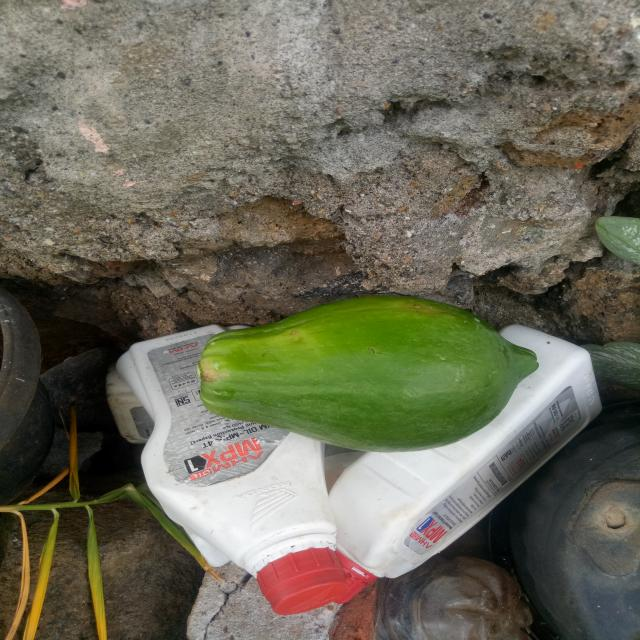Pepaya unrippen: (187, 286, 553, 457)
